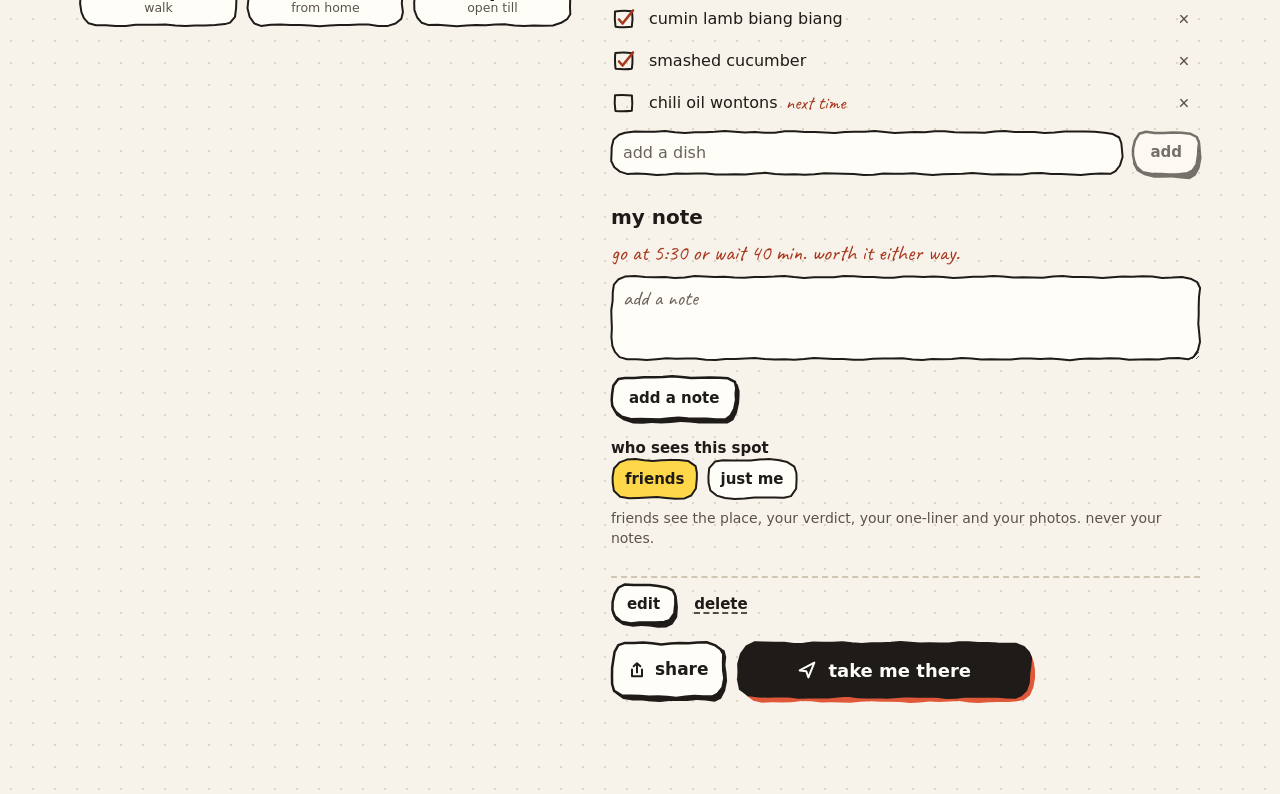
Test: a shared place (not on your list) › share: the share sheet when there is one, else the link copied
(page scrolled)
Click the button named "Share Lucky Thread" at (668, 670), box [611, 642, 724, 698]
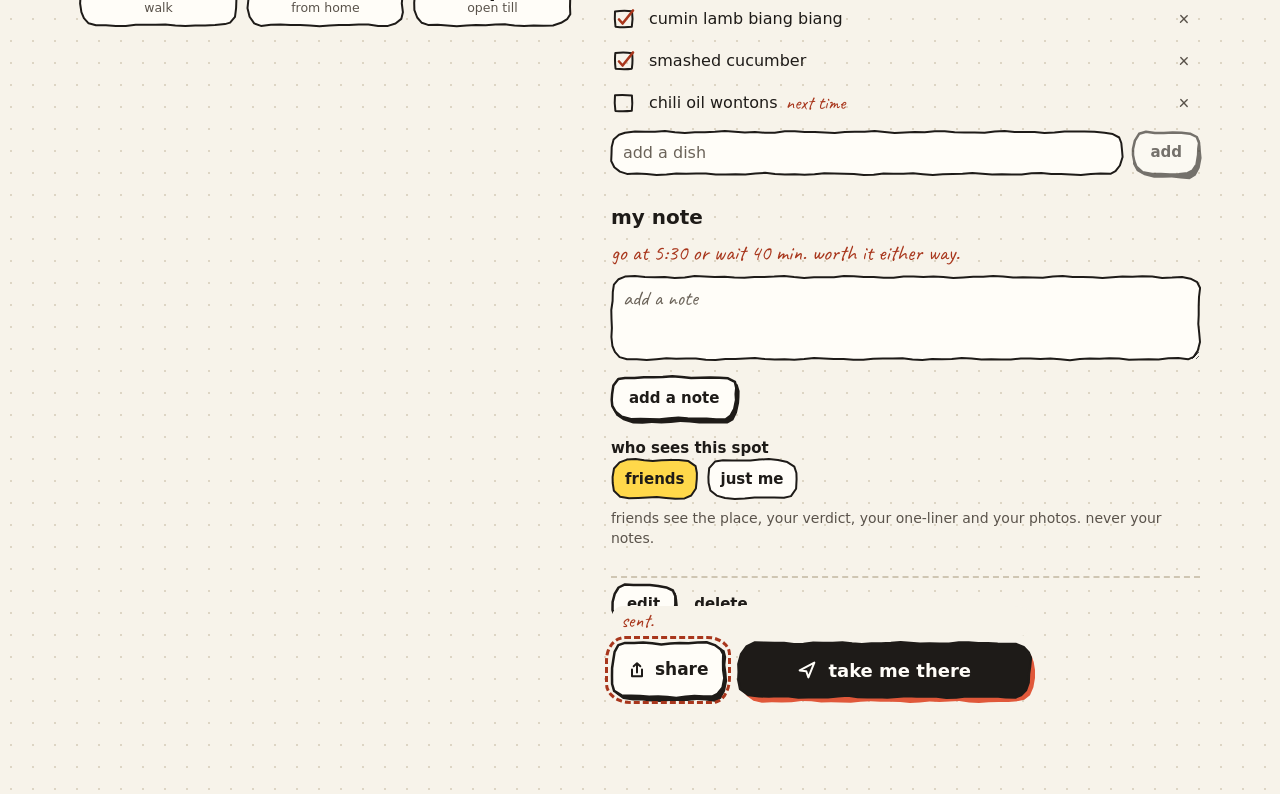
Now the text "sent." is shown, box [611, 606, 1031, 636]
Click the button named "Share Lucky Thread" at (668, 670), box [611, 642, 724, 698]
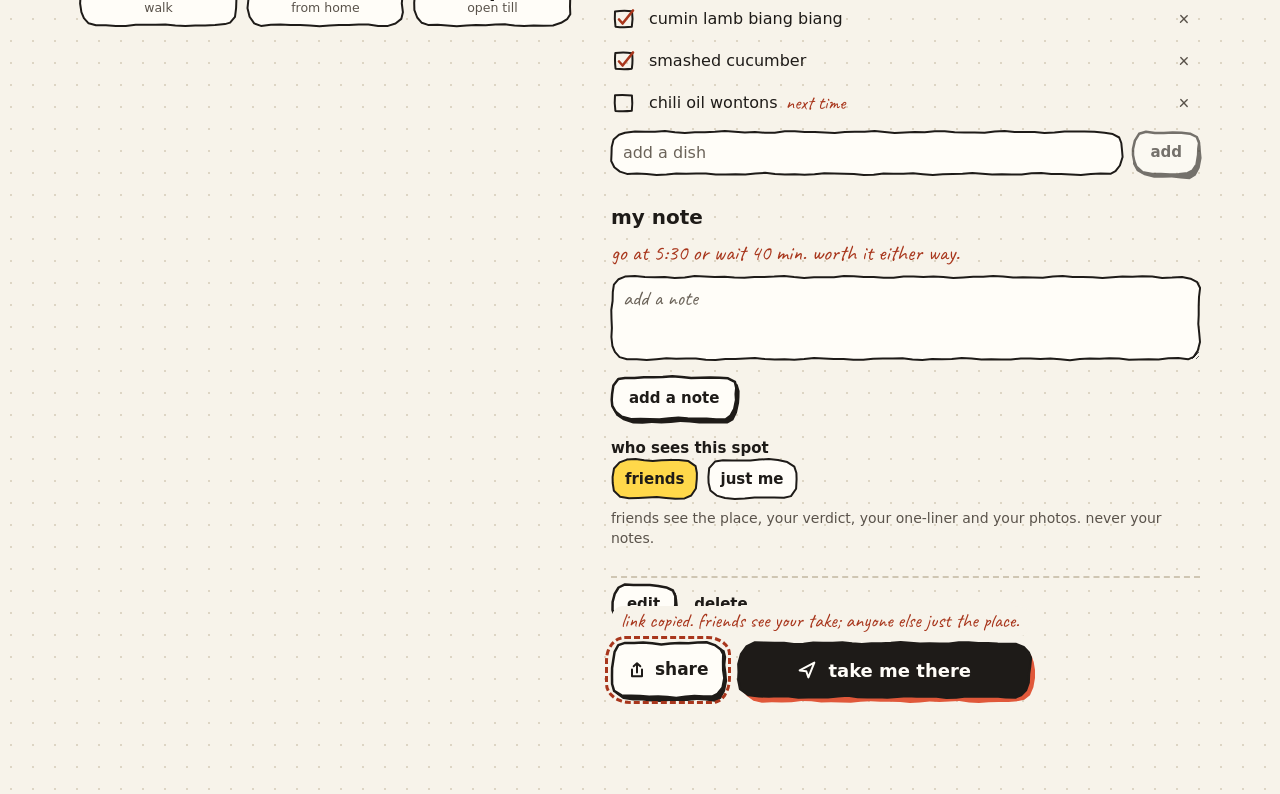
Now the text "link copied. friends see your take; anyone else just the place." is shown, box [611, 606, 1031, 636]
